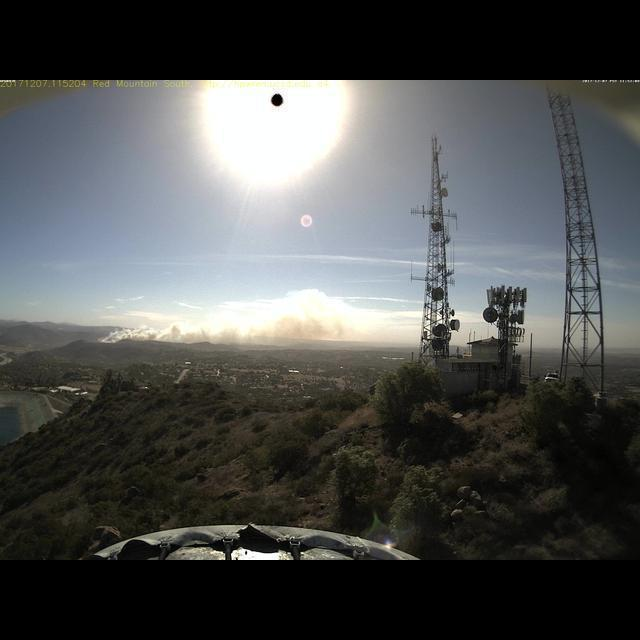Smoke: (97, 285, 412, 350)
